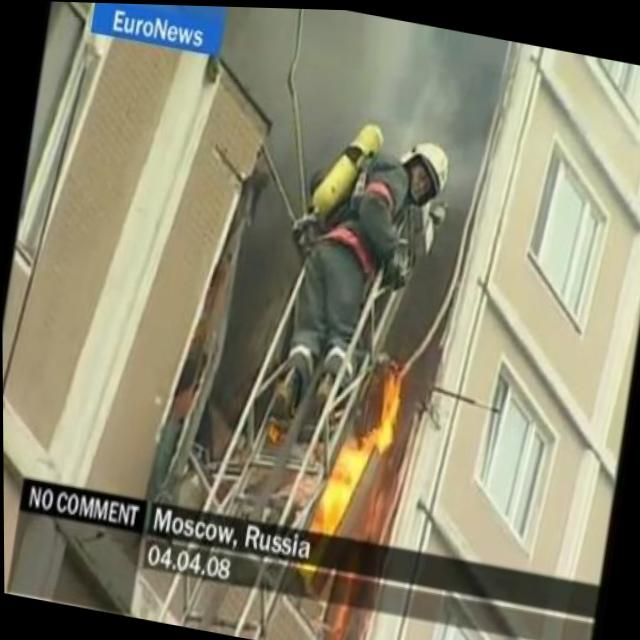fire: (308, 358, 415, 545), (265, 418, 282, 444)
